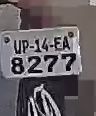1: (32, 36, 43, 55)
2: (25, 55, 44, 74)
4: (40, 37, 49, 52)
7: (60, 52, 77, 75), (42, 54, 59, 75)
8: (5, 55, 27, 78)
A: (62, 35, 71, 50)
E: (54, 36, 63, 51)
P: (21, 38, 31, 54)
U: (12, 38, 22, 56)
